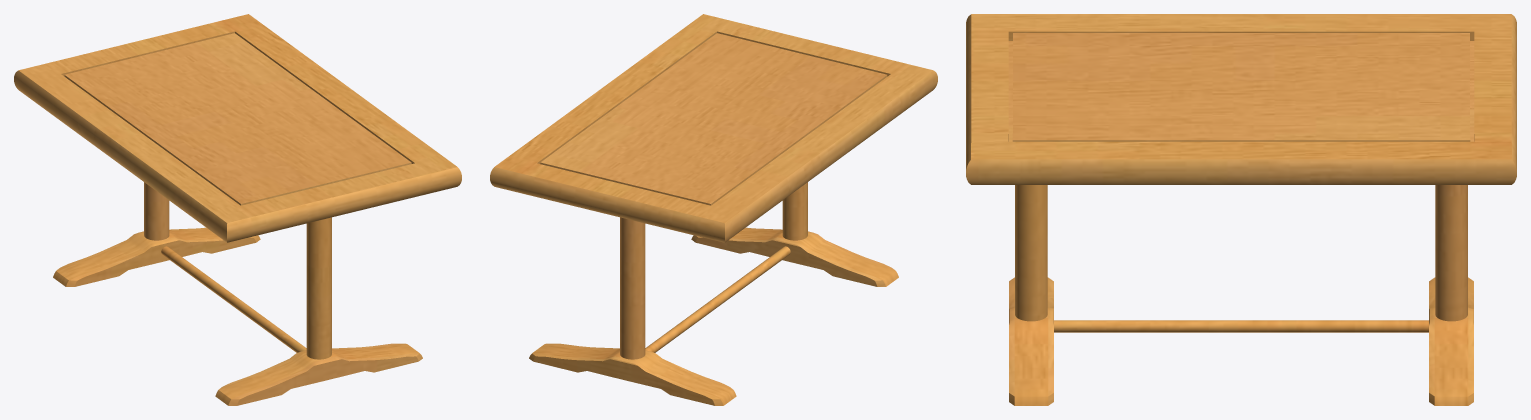
The model's file is table5.fbx.
The picture shows the model from 3 angles, left to right: view 1: azimuth 30°, elevation 25°; view 2: azimuth 150°, elevation 25°; view 3: azimuth 270°, elevation 25°; orthographic projection. The views are drawn at different scales.
Parts seen in each view (by area): view 1: table5; view 2: table5; view 3: table5.
Boxes of the visible parts, bbox=[...] form: table5: bbox=[14, 14, 461, 405]; table5: bbox=[490, 14, 937, 405]; table5: bbox=[966, 14, 1516, 405].
Size of the model in its own units: 1.73 by 0.8942 by 1.1.
